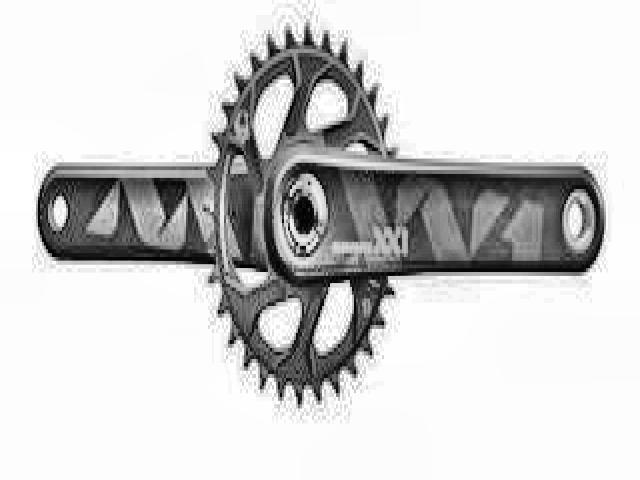cranks_set: (206, 24, 608, 410)
